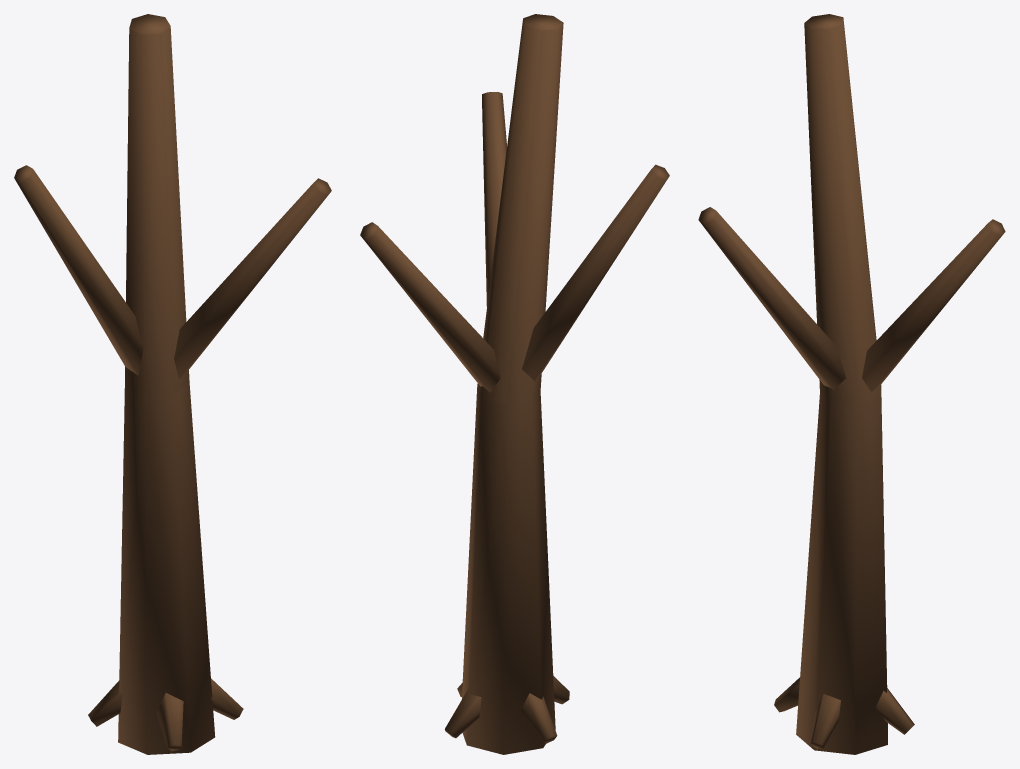
Rendered from TreeTrunk_2.glb.
The picture shows the model from 3 angles, left to right: view 1: azimuth 30°, elevation 25°; view 2: azimuth 150°, elevation 25°; view 3: azimuth 270°, elevation 25°; orthographic projection. The views are drawn at different scales.
Parts seen in each view (by area): view 1: TreeTrunk_2; view 2: TreeTrunk_2; view 3: TreeTrunk_2.
Boxes of the visible parts, <box> form: TreeTrunk_2: <box>14,14,331,754</box>; TreeTrunk_2: <box>360,14,669,754</box>; TreeTrunk_2: <box>698,14,1005,754</box>.
Bounding box in the file's own units: 4.34 × 12.05 × 4.76.
Materials: 1 (1 with a texture image).
